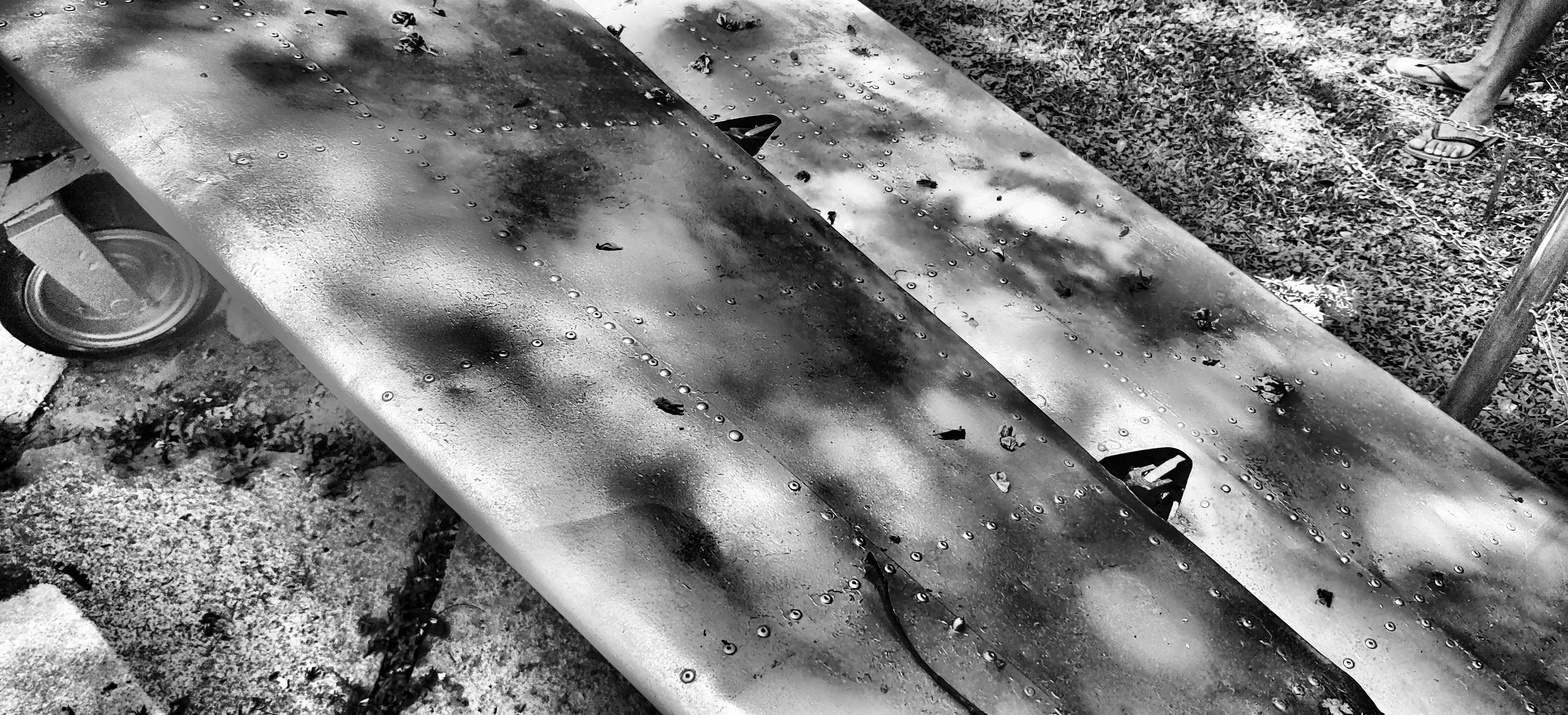dent: (529, 499, 698, 533)
paint-peel-off: (964, 318, 979, 329), (961, 311, 969, 319)
